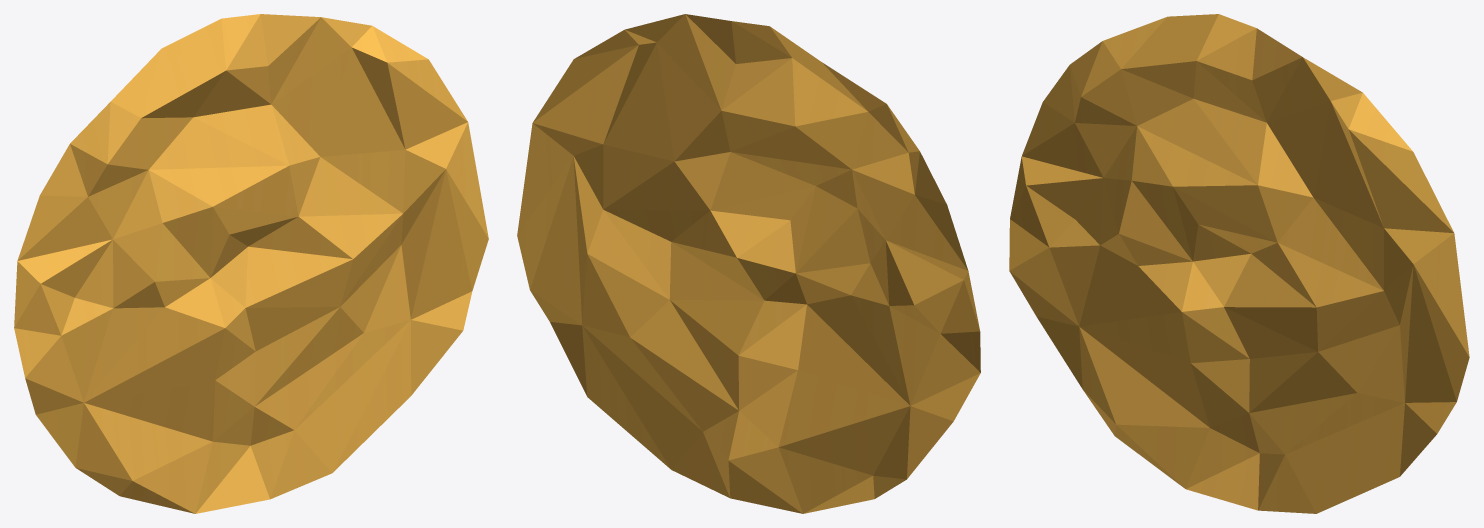
File: Sun.fbx
3 renders of one model, left to right at view 1: azimuth 30°, elevation 25°; view 2: azimuth 150°, elevation 25°; view 3: azimuth 330°, elevation 25°, orthographic.
Parts seen in each view (by area): view 1: Group22654; view 2: Group22654; view 3: Group22654.
Part boxes in pixels (x1,y1,x2,y2): Group22654: (14, 14, 488, 513); Group22654: (517, 14, 980, 513); Group22654: (1009, 14, 1469, 513).
Size of the model in its own units: 489 by 486 by 48.32.
